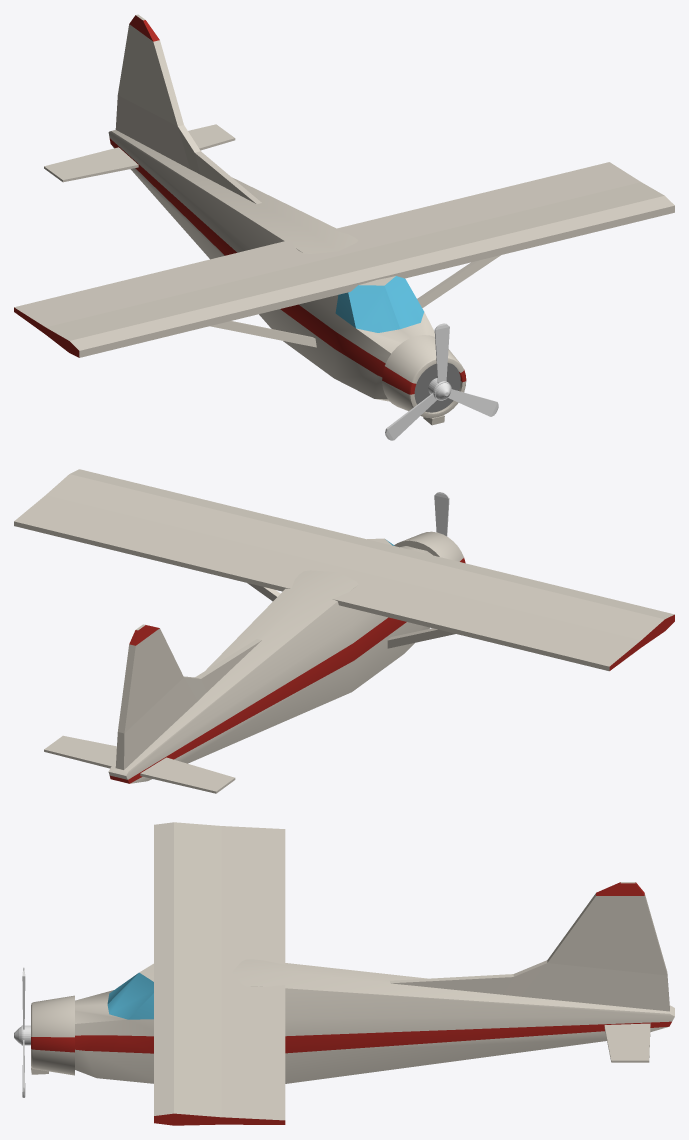
3 views of the same model, one above another, from view 1: azimuth 30°, elevation 25°; view 2: azimuth 150°, elevation 25°; view 3: azimuth 270°, elevation 25° (orthographic).
Parts seen in each view (by area): view 1: Plane.002, propeller.002; view 2: Plane.002, propeller.002; view 3: Plane.002.
Part boxes in pixels (bbox=[...]): Plane.002: bbox=[14, 14, 674, 425]; propeller.002: bbox=[385, 323, 498, 440]; Plane.002: bbox=[14, 469, 674, 793]; propeller.002: bbox=[434, 492, 449, 536]; Plane.002: bbox=[14, 822, 674, 1125].
Size of the model in its own units: 314 by 95.88 by 301.
